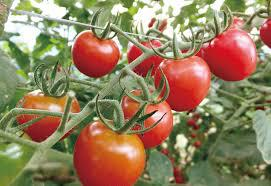tomato: (72, 120, 148, 183), (17, 88, 82, 144), (156, 51, 212, 112), (201, 25, 256, 83), (120, 91, 174, 147), (72, 30, 119, 76), (125, 37, 164, 76)
